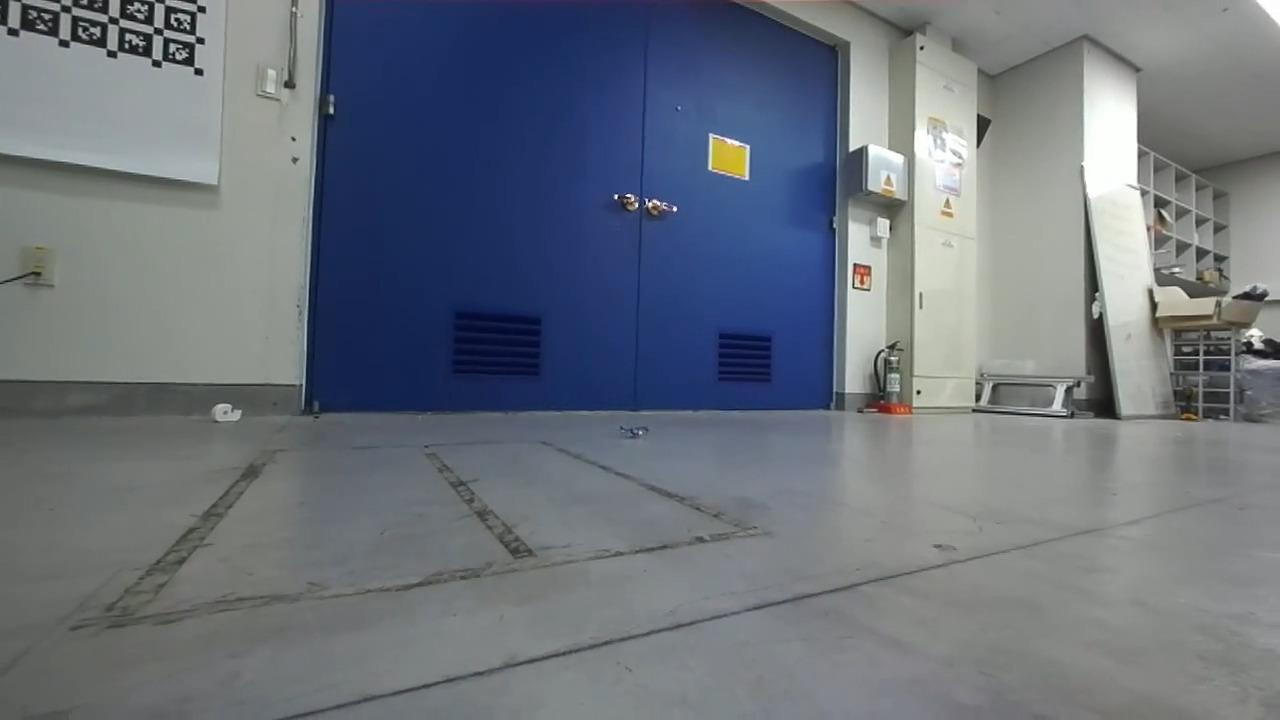crazyflie: (607, 418, 659, 445)
